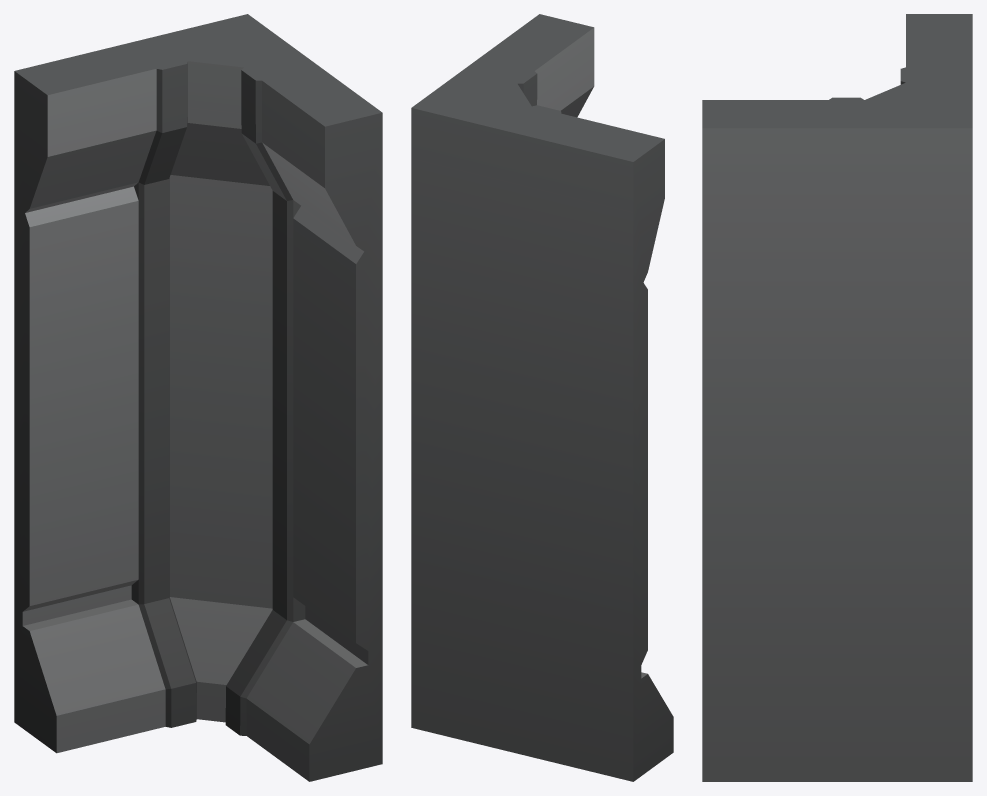
Rendered from Wall_type_B_004.fbx.
3 views of the same model, side by side, from view 1: azimuth 30°, elevation 25°; view 2: azimuth 150°, elevation 25°; view 3: azimuth 270°, elevation 25° (orthographic). The views are drawn at different scales.
Visible parts, largest first — view 1: Wall_type_B_004; view 2: Wall_type_B_004; view 3: Wall_type_B_004.
Part boxes in pixels (bbox=[...]): Wall_type_B_004: bbox=[14, 14, 382, 781]; Wall_type_B_004: bbox=[411, 14, 673, 781]; Wall_type_B_004: bbox=[702, 14, 972, 781].
Size of the model in its own units: 150 by 150 by 400.
